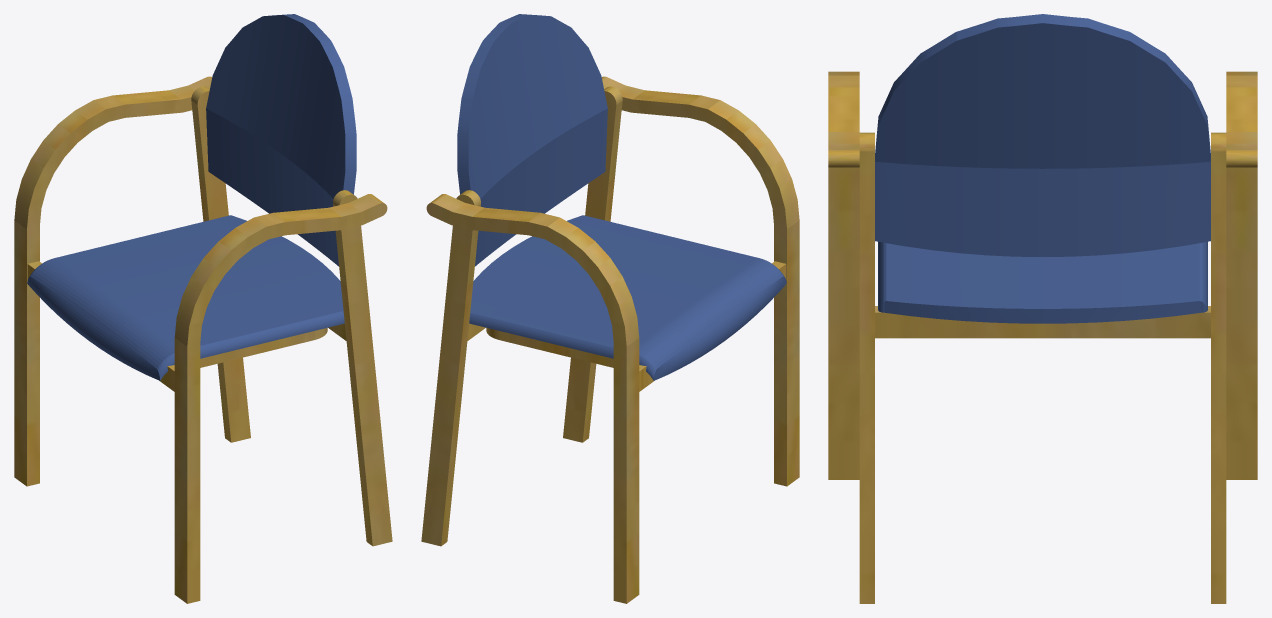
The model's file is Chair.fbx.
3 views of the same model, side by side, from view 1: azimuth 30°, elevation 25°; view 2: azimuth 150°, elevation 25°; view 3: azimuth 270°, elevation 25° (orthographic). The views are drawn at different scales.
Visible parts, largest first — view 1: Group4, Group5, Group3, Group1, Group2; view 2: Group4, Group5, Group1, Group3, Group2; view 3: Group5, Group4, Group1, Group3, Group2.
Part boxes in pixels (<box>): Group4: <box>27,215,344,380</box>; Group5: <box>206,14,356,266</box>; Group3: <box>174,190,392,603</box>; Group1: <box>14,76,250,486</box>; Group2: <box>27,261,346,391</box>; Group4: <box>469,215,786,380</box>; Group5: <box>457,14,607,266</box>; Group1: <box>421,190,639,603</box>; Group3: <box>563,76,799,486</box>; Group2: <box>467,261,786,391</box>; Group5: <box>875,14,1210,256</box>; Group4: <box>878,241,1207,323</box>; Group1: <box>1211,71,1257,603</box>; Group3: <box>828,71,874,603</box>; Group2: <box>875,306,1210,338</box>.
Bounding box in the file's own units: 445 × 864 × 579.
